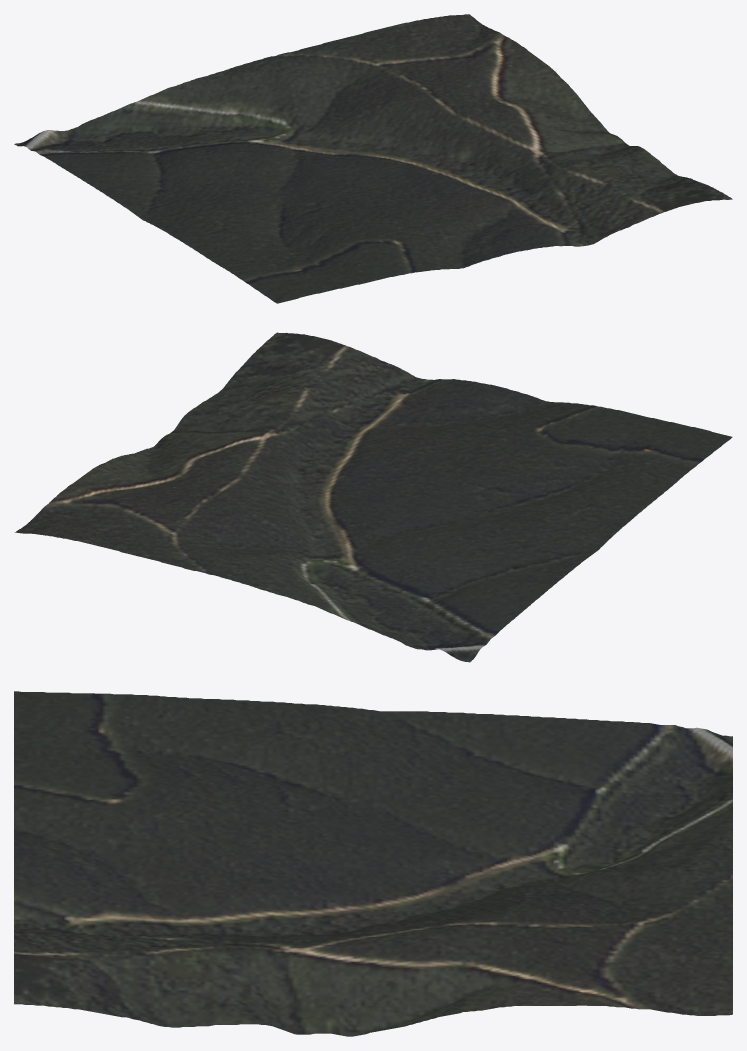
The model's file is tile_0_1.glb.
The picture shows the model from 3 angles, top to bottom: view 1: azimuth 30°, elevation 25°; view 2: azimuth 150°, elevation 25°; view 3: azimuth 270°, elevation 25°; orthographic projection. The views are drawn at different scales.
Parts seen in each view (by area): view 1: tile_0_1; view 2: tile_0_1; view 3: tile_0_1.
Boxes of the visible parts, bbox=[...] form: tile_0_1: bbox=[14, 14, 732, 303]; tile_0_1: bbox=[15, 332, 732, 662]; tile_0_1: bbox=[14, 691, 732, 1036].
Bounding box in the file's own units: 1000 × 77 × 1000.
Materials: 1 (1 with a texture image).
